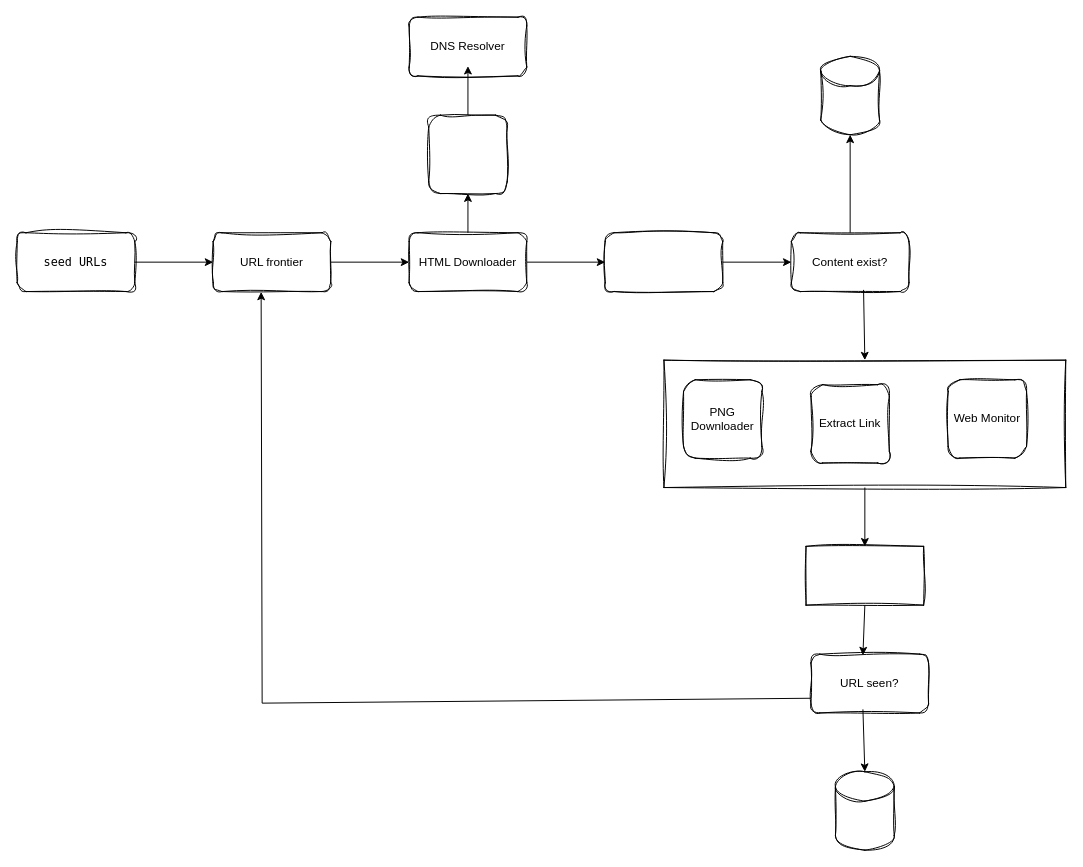
This 1083x867 diagram has some shape labels left out. Here are the shapes that lost their labels. From the top down, the box of each, then its label:
(820, 55, 880, 135): Content DB
(428, 114, 507, 194): DNS cache
(604, 232, 723, 292): Content Parser
(805, 545, 924, 605): URL Filter
(834, 771, 894, 850): URL storage
